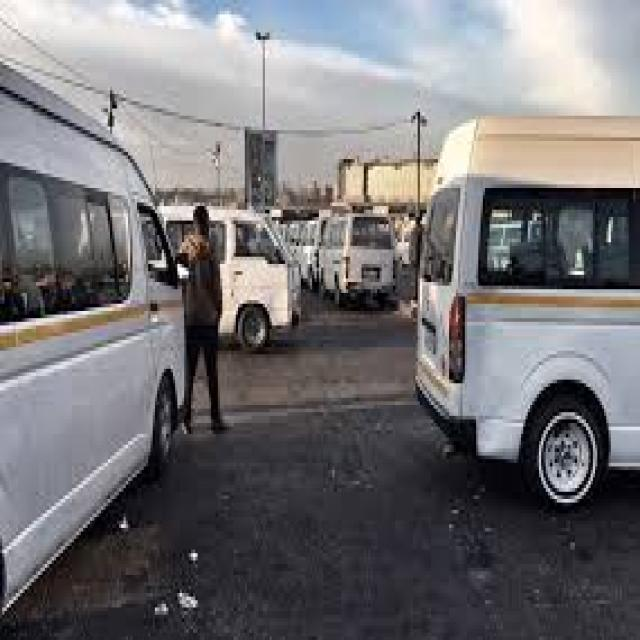MiniBus taxi: (2, 65, 186, 629), (411, 101, 640, 510), (164, 188, 305, 358), (323, 199, 402, 314)
Pedestrians: (184, 199, 240, 437)
